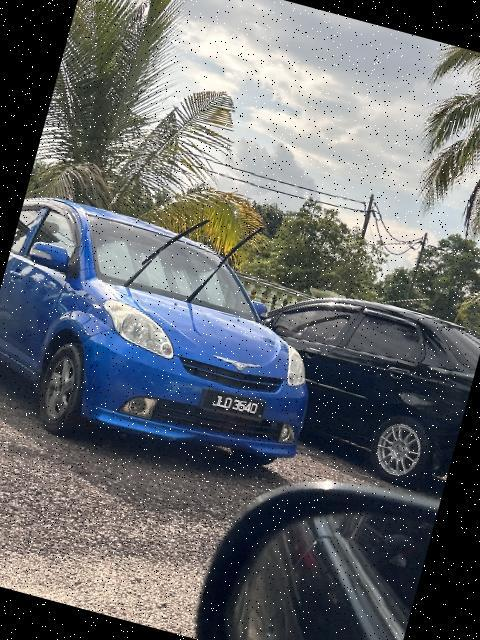JLO3540: (199, 385, 269, 428)
License_Plate: (199, 385, 269, 428)
car: (1, 187, 347, 485), (233, 277, 480, 493)
